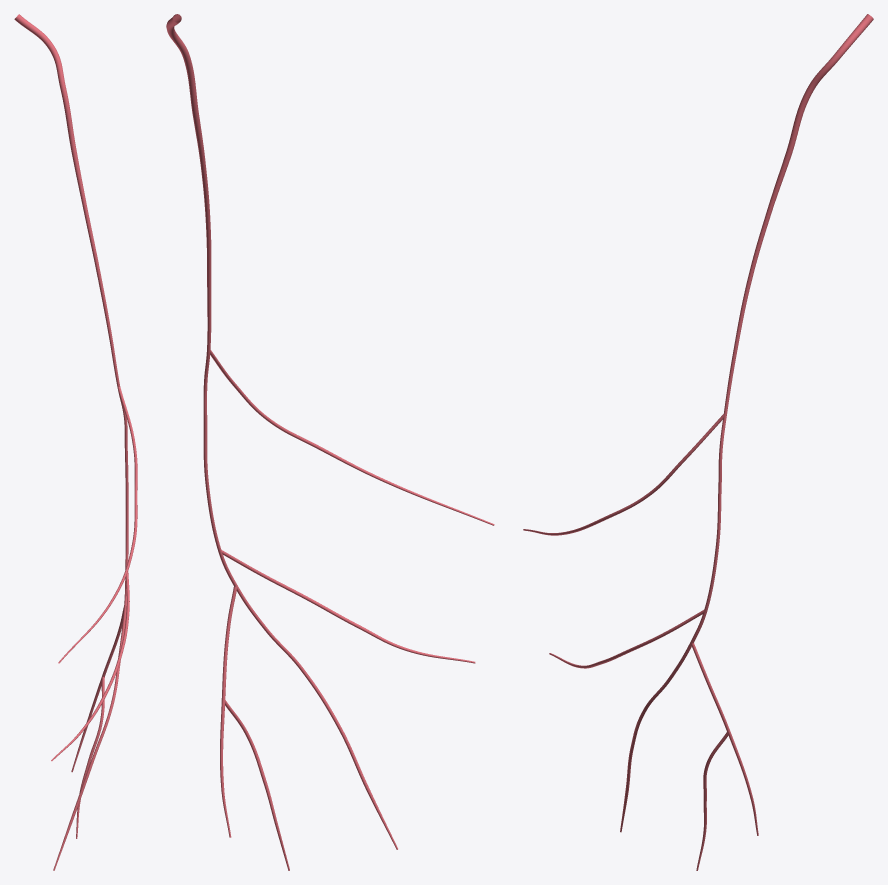
3 views of the same model, side by side, from view 1: azimuth 30°, elevation 25°; view 2: azimuth 150°, elevation 25°; view 3: azimuth 270°, elevation 25° (orthographic). The views are drawn at different scales.
Visible parts, largest first — view 1: ZA_6a8274effb95aa49; view 2: ZA_6a8274effb95aa49; view 3: ZA_6a8274effb95aa49.
Part boxes in pixels (<box>): ZA_6a8274effb95aa49: <box>14,14,137,870</box>; ZA_6a8274effb95aa49: <box>166,14,494,870</box>; ZA_6a8274effb95aa49: <box>523,14,873,870</box>.
Bounding box in the file's own units: 0.0723 × 0.3389 × 0.1243.
